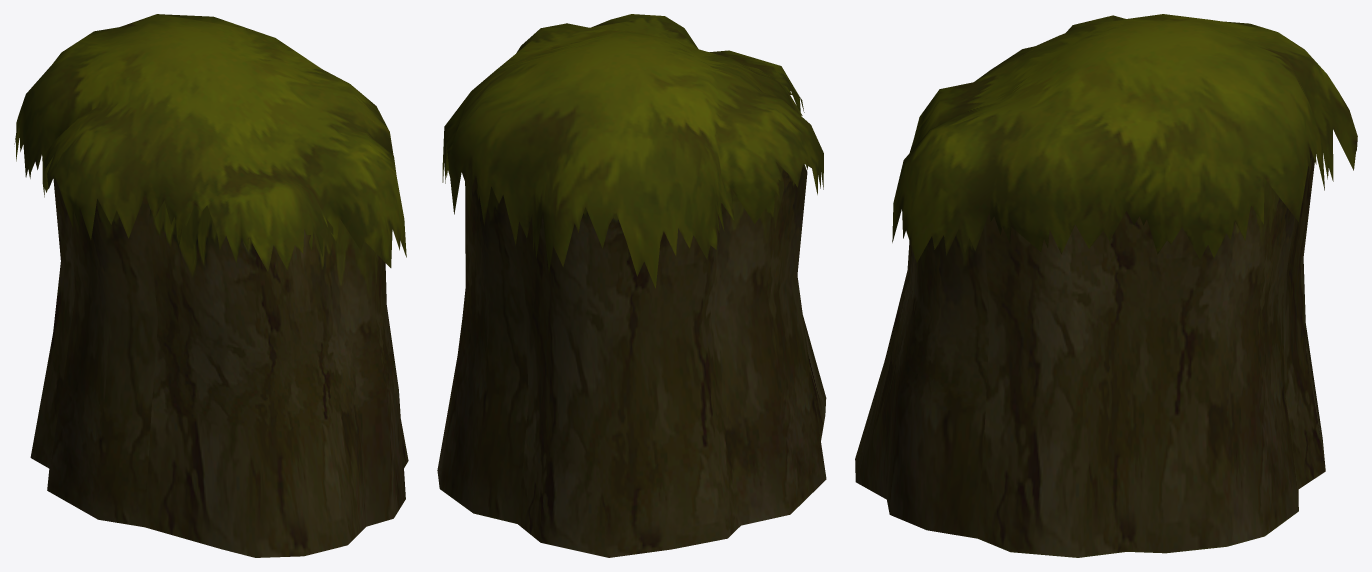
Rendered from lumina_construct_trimadd_03.FBX.
3 views of the same model, side by side, from view 1: azimuth 30°, elevation 25°; view 2: azimuth 150°, elevation 25°; view 3: azimuth 270°, elevation 25° (orthographic). The views are drawn at different scales.
Visible parts, largest first — view 1: lumina_construct_trimadd_03; view 2: lumina_construct_trimadd_03; view 3: lumina_construct_trimadd_03.
Boxes of the visible parts, x1=… form: lumina_construct_trimadd_03: x1=14, y1=14, x2=408, y2=557; lumina_construct_trimadd_03: x1=437, y1=14, x2=826, y2=557; lumina_construct_trimadd_03: x1=855, y1=14, x2=1357, y2=557.
Bounding box in the file's own units: 6.98 × 8.54 × 8.85.
